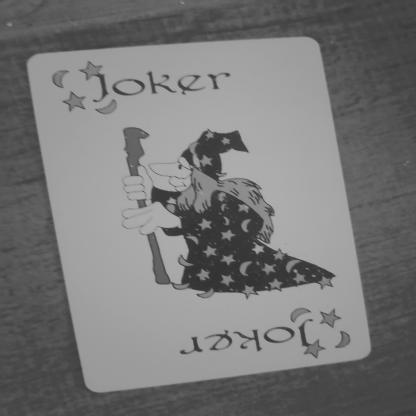BLACK JOKER: (43, 46, 246, 118), (170, 298, 362, 368)
